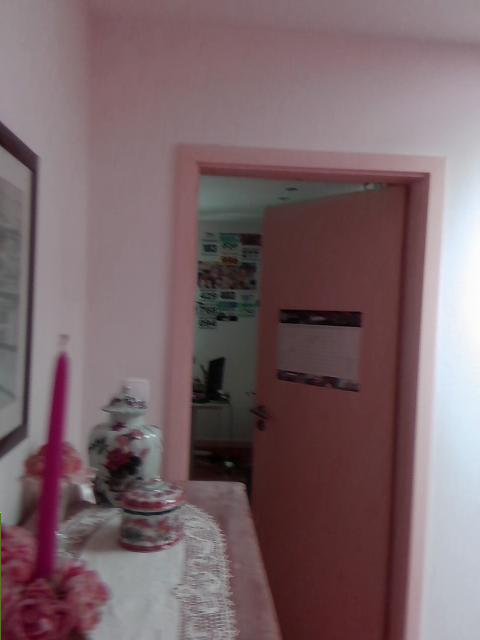semi_door: (164, 140, 448, 639)
